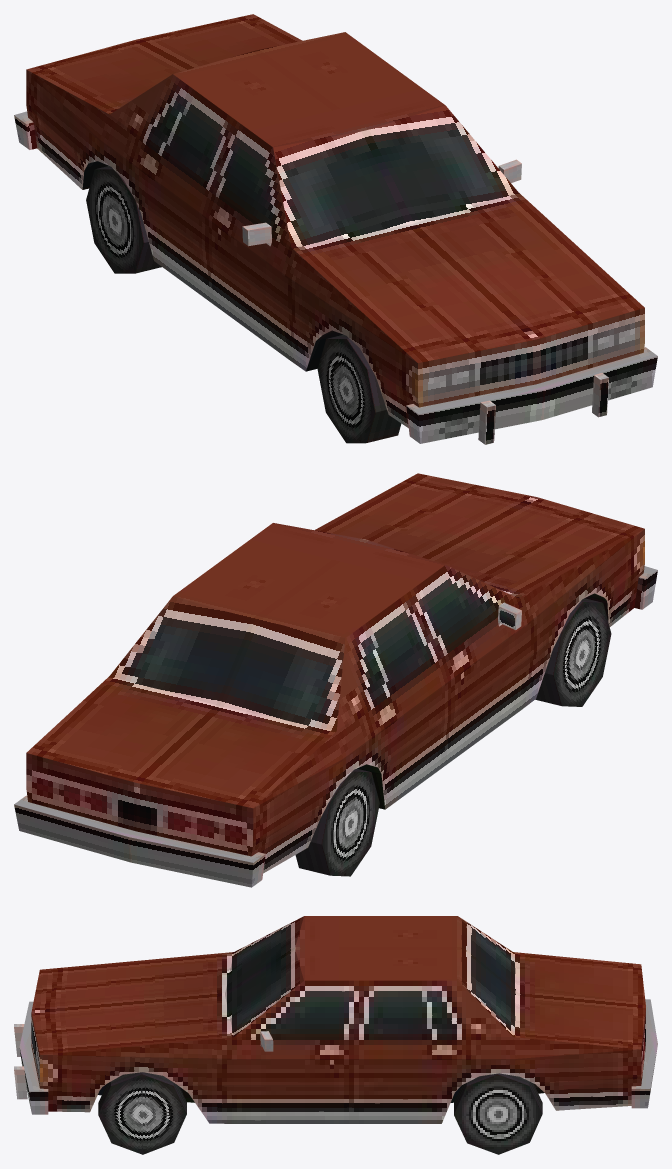
File: car5.lod.glb
The picture shows the model from 3 angles, top to bottom: view 1: azimuth 30°, elevation 25°; view 2: azimuth 150°, elevation 25°; view 3: azimuth 270°, elevation 25°; orthographic projection. The views are drawn at different scales.
Visible parts, largest first — view 1: Car5; view 2: Car5; view 3: Car5.
Boxes of the visible parts, x1,y1,x2,y2 form: Car5: (14, 14, 657, 444); Car5: (14, 473, 657, 887); Car5: (14, 916, 657, 1154).
Size of the model in its own units: 2.78 by 2.05 by 7.37.
1 material, 1 textured.
